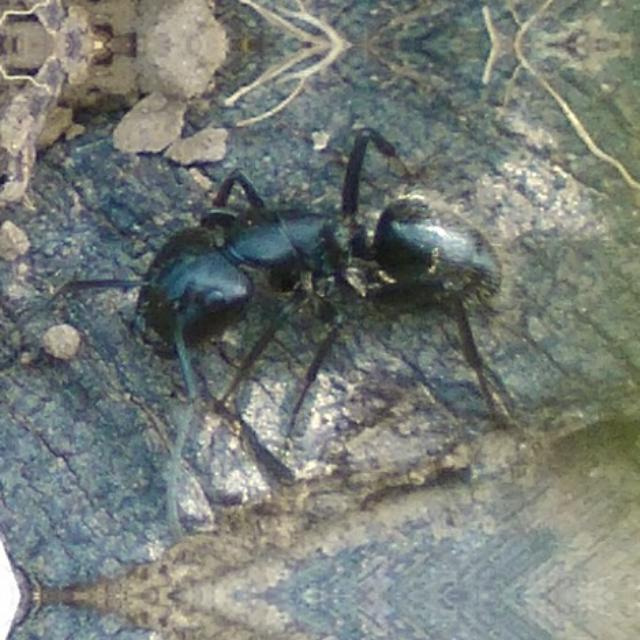Tetramorium: (65, 92, 549, 450)
